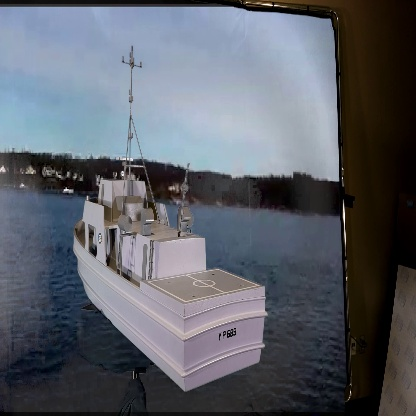YP689: (74, 50, 268, 393)
